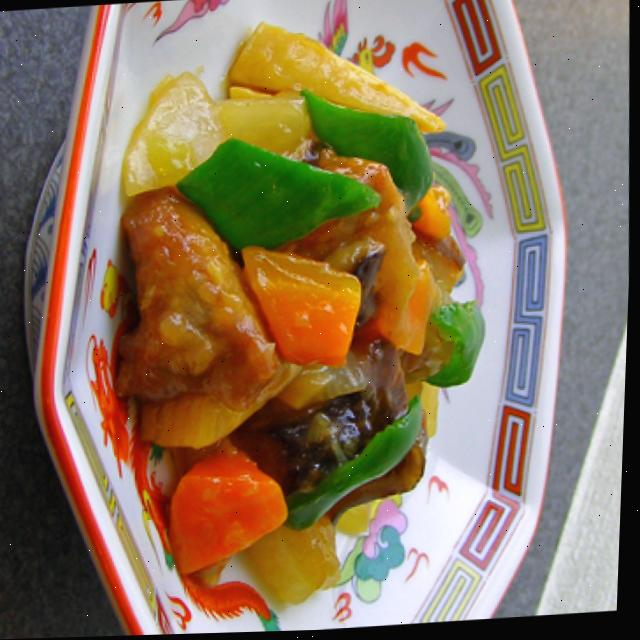猪肉菜式: (90, 14, 505, 624)
